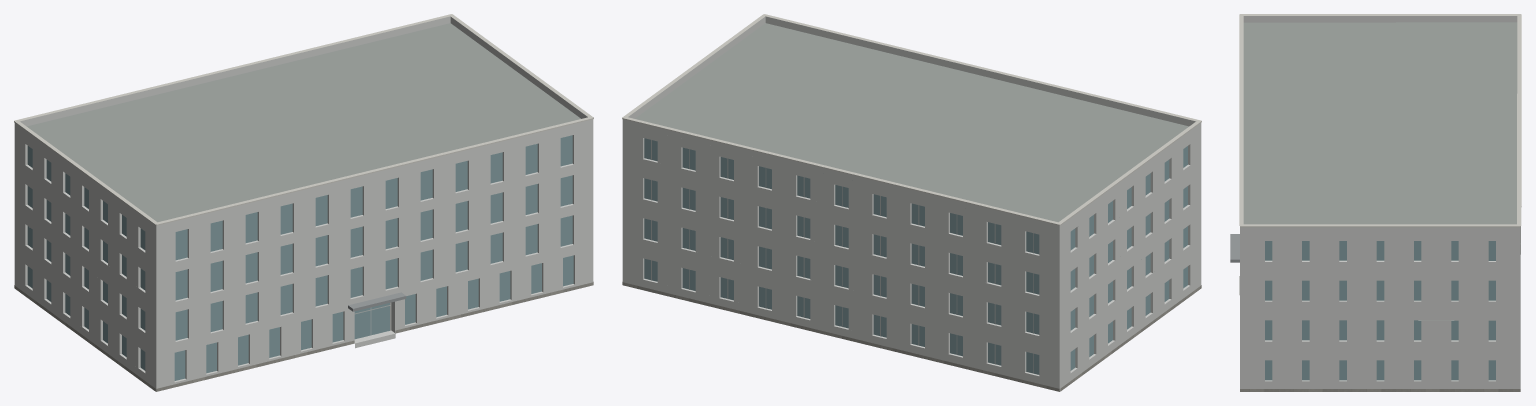
3 views of the same model, side by side, from view 1: azimuth 30°, elevation 25°; view 2: azimuth 150°, elevation 25°; view 3: azimuth 270°, elevation 25° (orthographic).
Parts seen in each view (by area): view 1: w11__wall, w11__roof, w11__glass, w11__parapet, w11__trim, w11__base; view 2: w11__wall, w11__roof, w11__glass, w11__parapet, w11__trim, w11__base, w11__frame; view 3: w11__roof, w11__wall, w11__glass, w11__trim, w11__parapet, w11__base, w11__canopy.
Part boxes in pixels (x1,y1,x2,y2): w11__wall: (14, 124, 593, 391); w11__roof: (27, 23, 580, 222); w11__glass: (27, 135, 573, 380); w11__parapet: (14, 16, 593, 230); w11__trim: (14, 14, 593, 225); w11__base: (14, 282, 593, 391); w11__wall: (622, 124, 1201, 391); w11__roof: (635, 23, 1188, 222); w11__glass: (644, 138, 1187, 374); w11__parapet: (622, 16, 1201, 230); w11__trim: (622, 14, 1201, 225); w11__base: (622, 282, 1201, 391); w11__frame: (651, 140, 1033, 373); w11__roof: (1243, 22, 1520, 320); w11__wall: (1240, 226, 1520, 388); w11__glass: (1265, 241, 1495, 380); w11__trim: (1239, 14, 1521, 227); w11__parapet: (1240, 16, 1520, 232); w11__base: (1240, 389, 1520, 391); w11__canopy: (1230, 234, 1239, 262).
Bounding box in the file's own units: 41.14 × 15.4 × 23.86.
10 materials, 1 textured.
